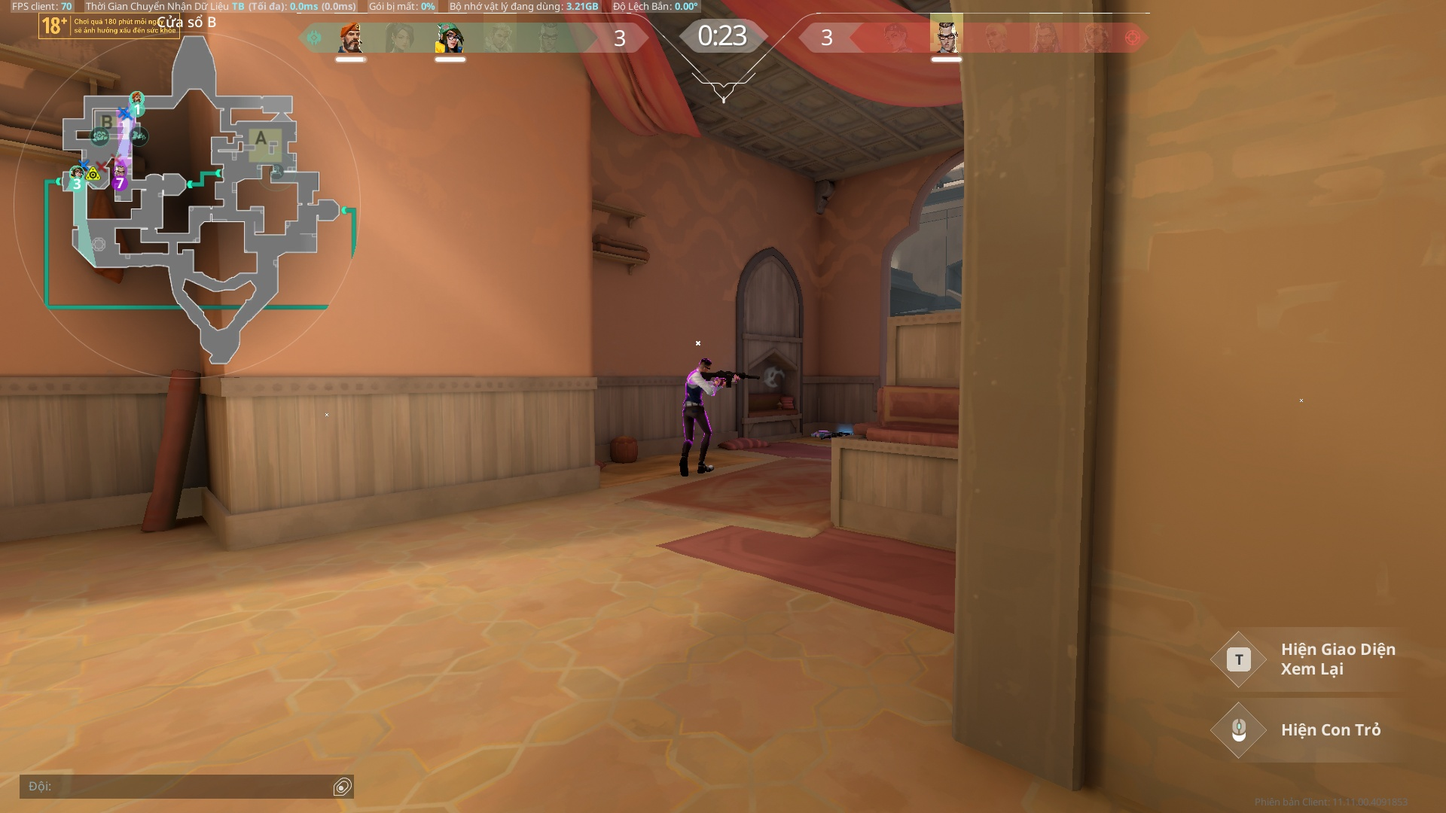body: (684, 369, 710, 404)
head: (697, 355, 712, 373)
